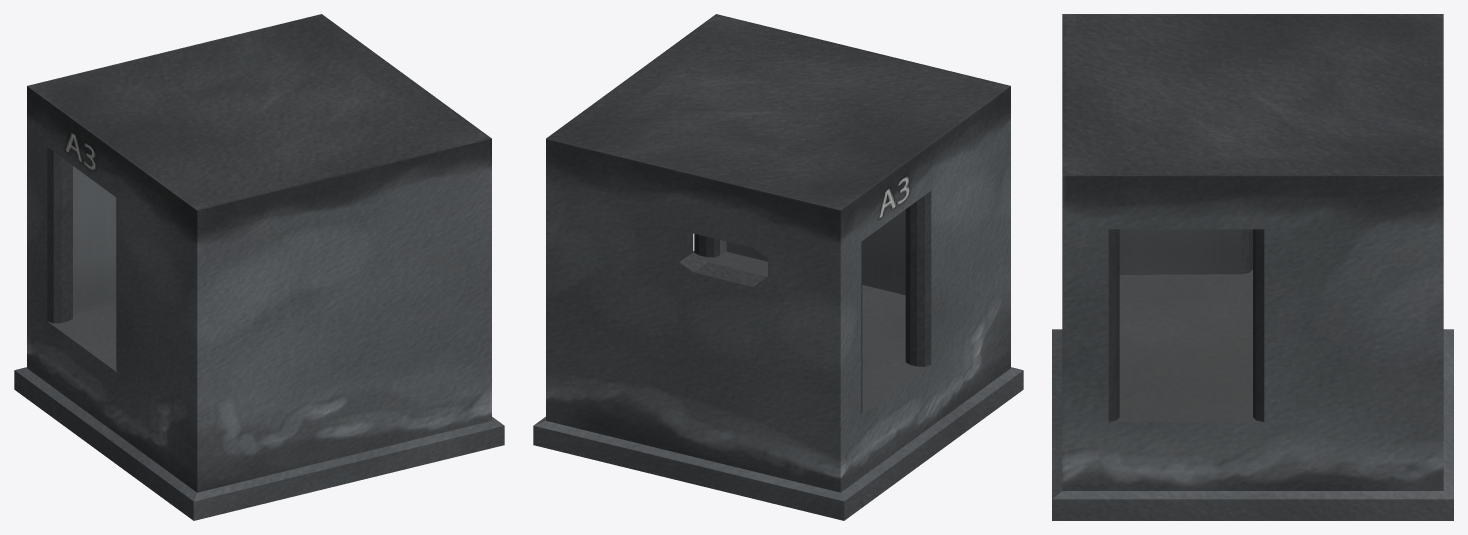
The model's file is Transport.obj.
The picture shows the model from 3 angles, left to right: view 1: azimuth 30°, elevation 25°; view 2: azimuth 150°, elevation 25°; view 3: azimuth 270°, elevation 25°; orthographic projection. The views are drawn at different scales.
Visible parts, largest first — view 1: Transport; view 2: Transport; view 3: Transport.
Part boxes in pixels (x1,y1,x2,y2): Transport: (14,14,504,520); Transport: (533,14,1023,520); Transport: (1052,14,1453,520).
Size of the model in its own units: 5.25 by 4.98 by 5.25.
Materials: 1 (1 with a texture image).
